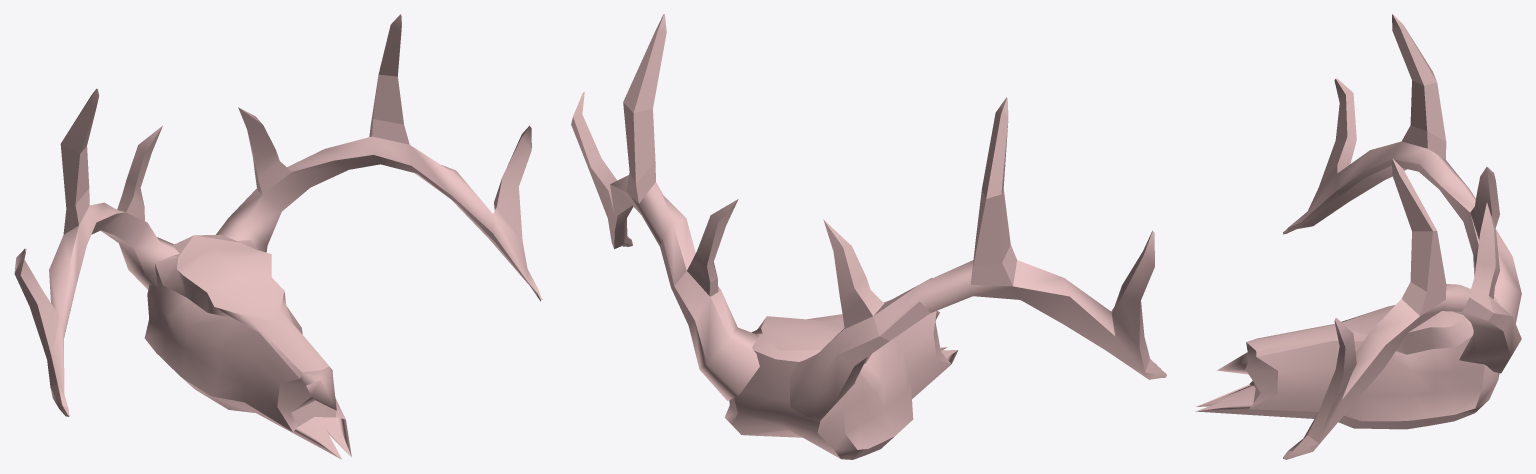
Rendered from DeerSkullEnemy.fbx.
The picture shows the model from 3 angles, left to right: view 1: azimuth 30°, elevation 25°; view 2: azimuth 150°, elevation 25°; view 3: azimuth 270°, elevation 25°; orthographic projection. The views are drawn at different scales.
Parts seen in each view (by area): view 1: Skull, Horn_1, Horn_2; view 2: Horn_2, Horn_1, Skull; view 3: Skull, Horn_1, Horn_2.
Boxes of the visible parts, bbox=[...] form: Skull: bbox=[144, 234, 351, 459]; Horn_1: bbox=[216, 14, 542, 301]; Horn_2: bbox=[14, 88, 179, 416]; Horn_2: bbox=[790, 97, 1166, 422]; Horn_1: bbox=[571, 14, 759, 400]; Skull: bbox=[724, 300, 958, 459]; Skull: bbox=[1195, 296, 1500, 429]; Horn_1: bbox=[1283, 158, 1521, 459]; Horn_2: bbox=[1283, 14, 1521, 323].
Size of the model in its own units: 2.33 by 1.44 by 1.31.
